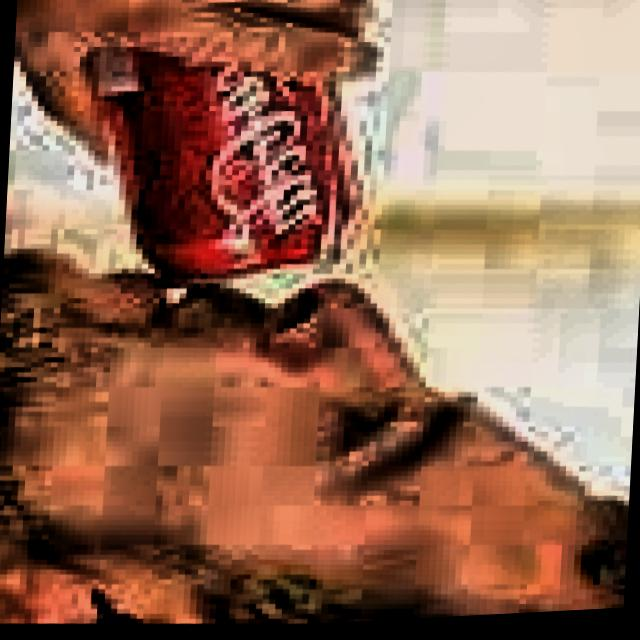metal: (63, 0, 388, 312)
